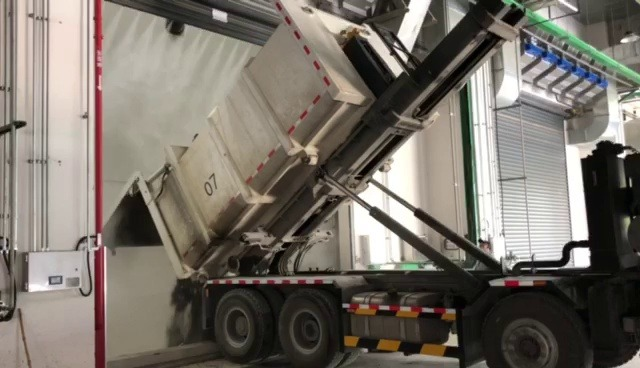dust: (104, 72, 234, 169), (108, 260, 168, 347)
truck: (138, 0, 640, 368)
